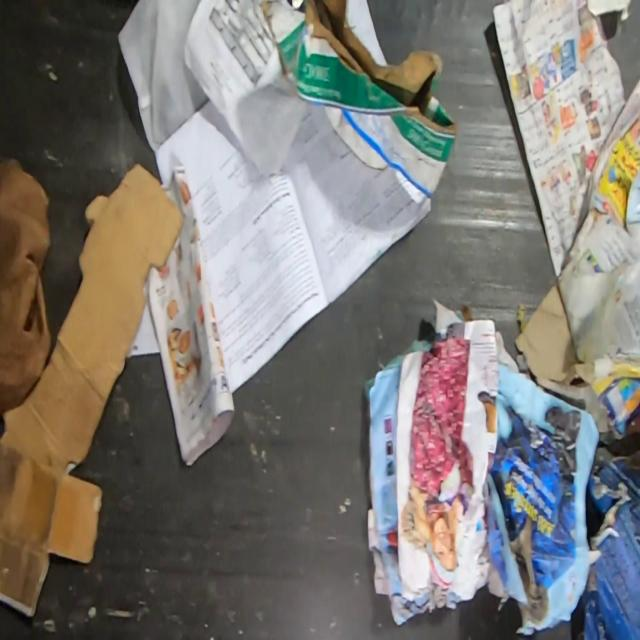cardboard: (0, 160, 185, 476), (258, 0, 460, 213), (0, 445, 106, 621), (582, 445, 640, 640), (513, 278, 592, 388)
